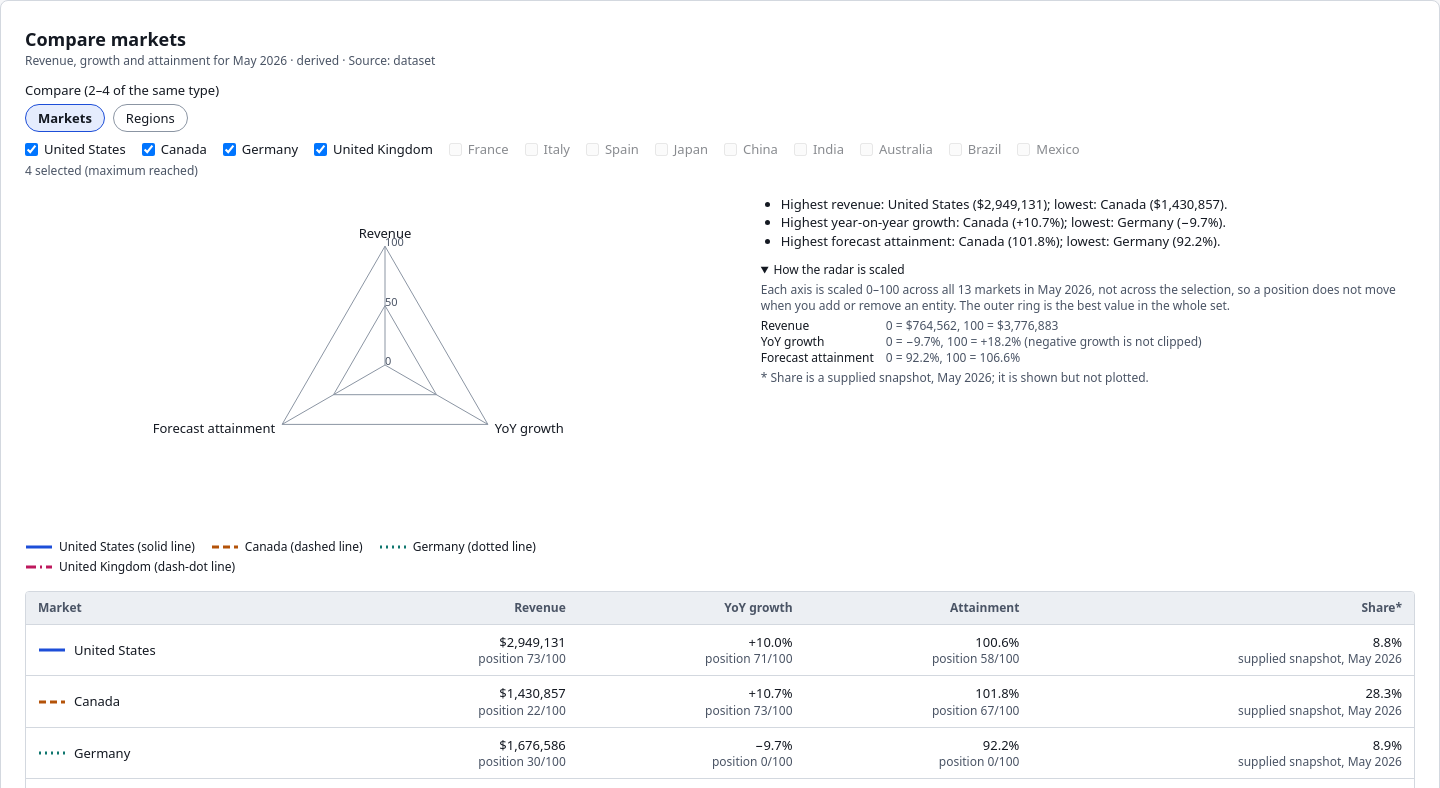
Test case: MarketComparison › at 4 selected the rest are disabled (max 4), and unchecking re-enables them
expect the text "4 selected (maximum reached)" is shown: met, box [25,162,198,179]
Click the checkbox labelled "Germany" at (229,149), box [223,143,236,156]
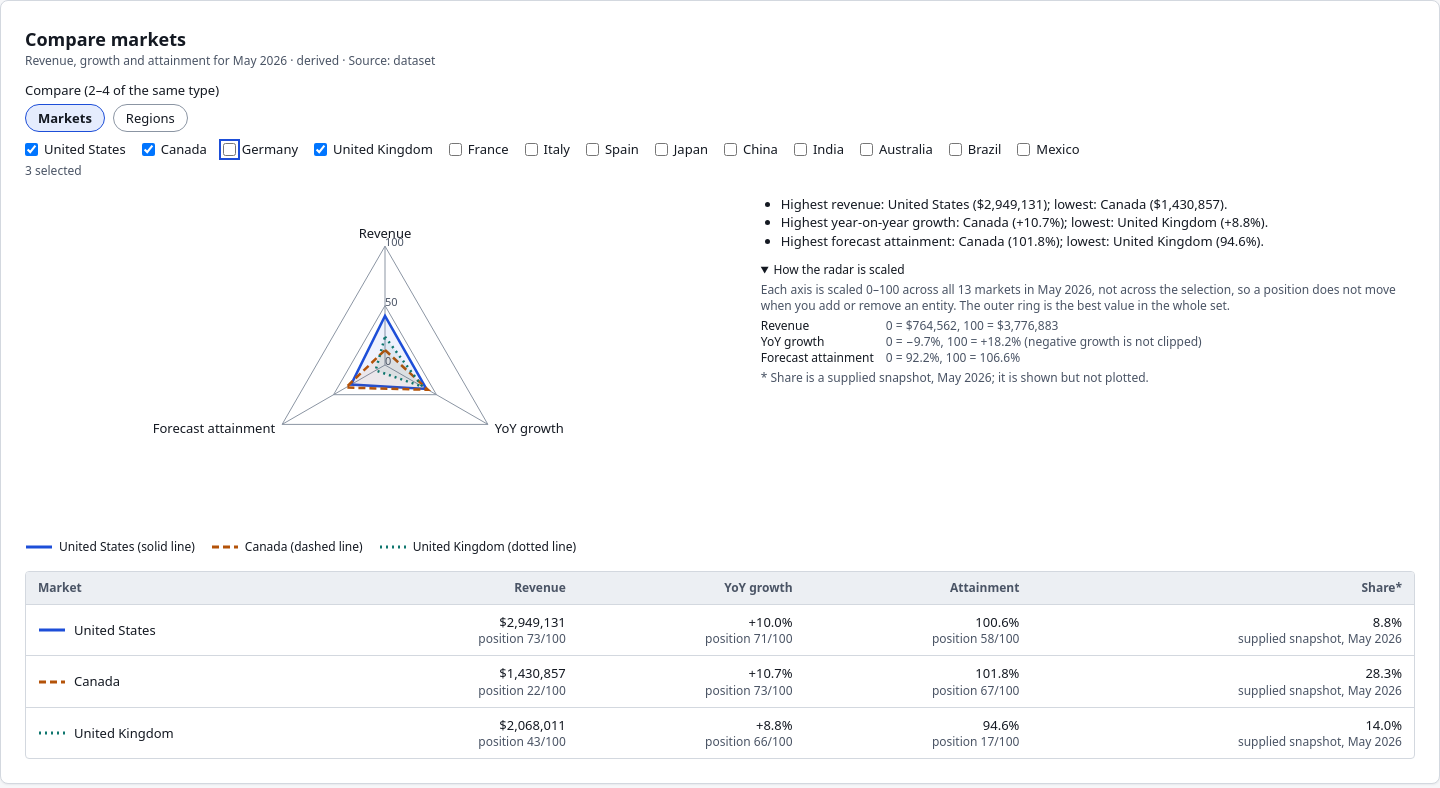
expect the checkbox labelled "France" is enabled: met, box [449,143,462,156]
